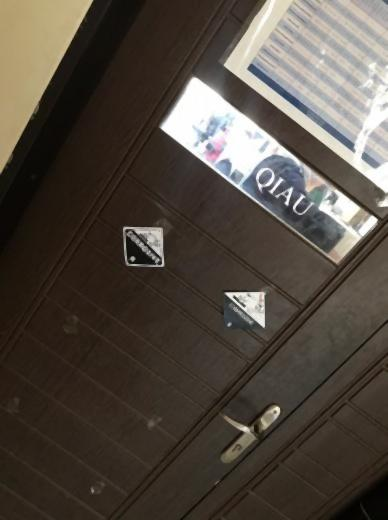corrosive: (122, 227, 167, 269), (223, 291, 266, 330)
